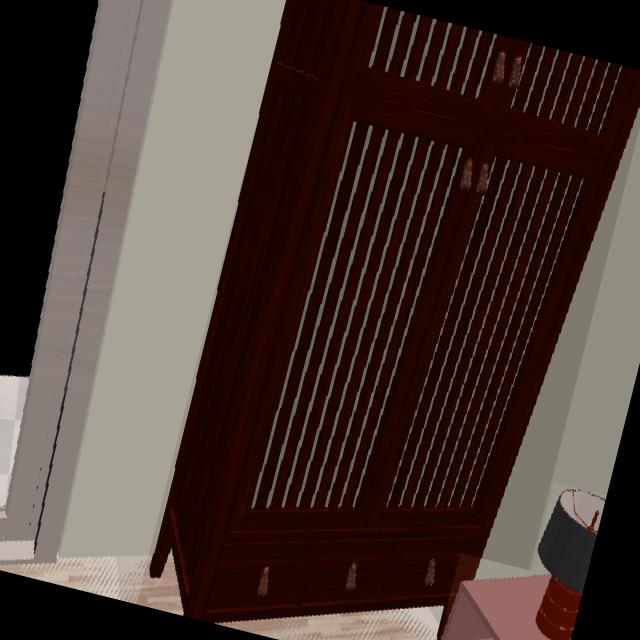lamp: (536, 489, 605, 640)
nighttable: (441, 575, 550, 640)
wardrobe: (150, 0, 640, 627)
